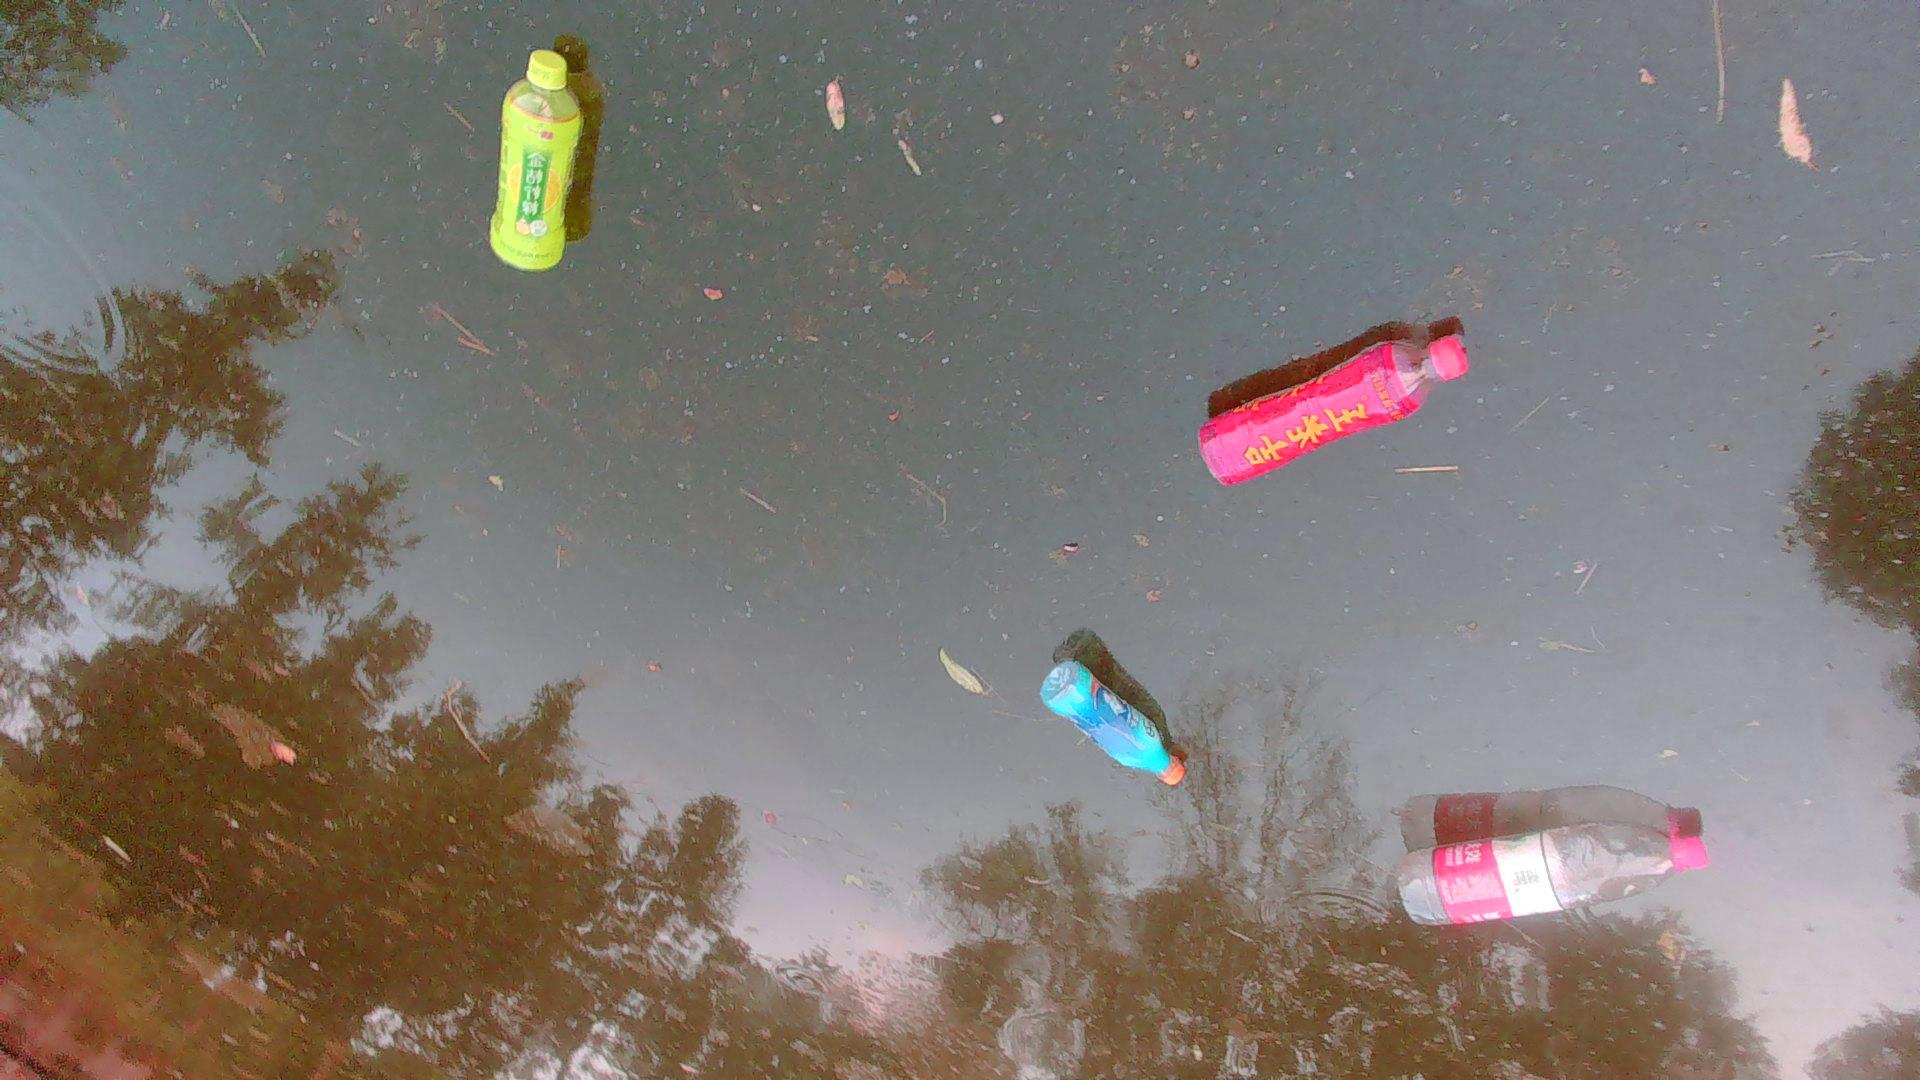Plastic: (1189, 331, 1473, 496), (1393, 800, 1716, 940), (475, 44, 593, 278), (1029, 655, 1192, 789)
